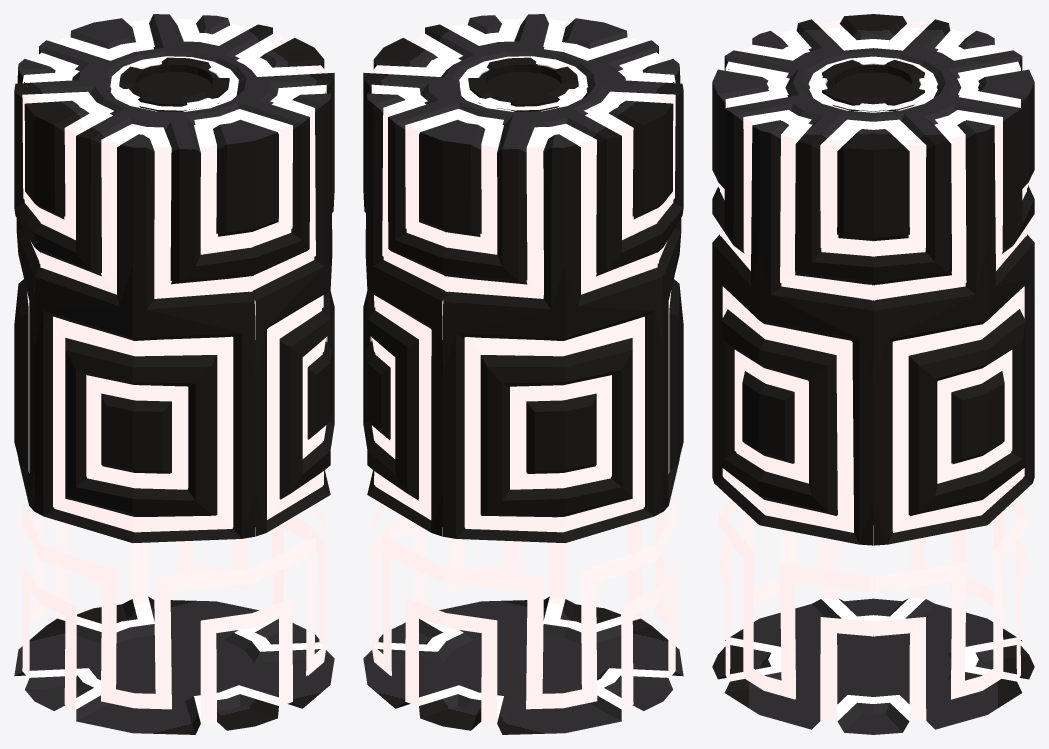
File: bypass4.fbx
The picture shows the model from 3 angles, left to right: view 1: azimuth 30°, elevation 25°; view 2: azimuth 150°, elevation 25°; view 3: azimuth 270°, elevation 25°; orthographic projection.
Visible parts, largest first — view 1: SciFI C4, neon008; view 2: SciFI C4, neon008; view 3: SciFI C4, neon008.
Boxes of the visible parts, x1,y1,x2,y2 form: SciFI C4: (14, 14, 334, 734); neon008: (22, 19, 327, 724); SciFI C4: (363, 14, 683, 734); neon008: (370, 19, 675, 723); SciFI C4: (712, 14, 1034, 734); neon008: (718, 21, 1028, 721).
Bounding box in the file's own units: 72.53 × 145 × 72.53.
